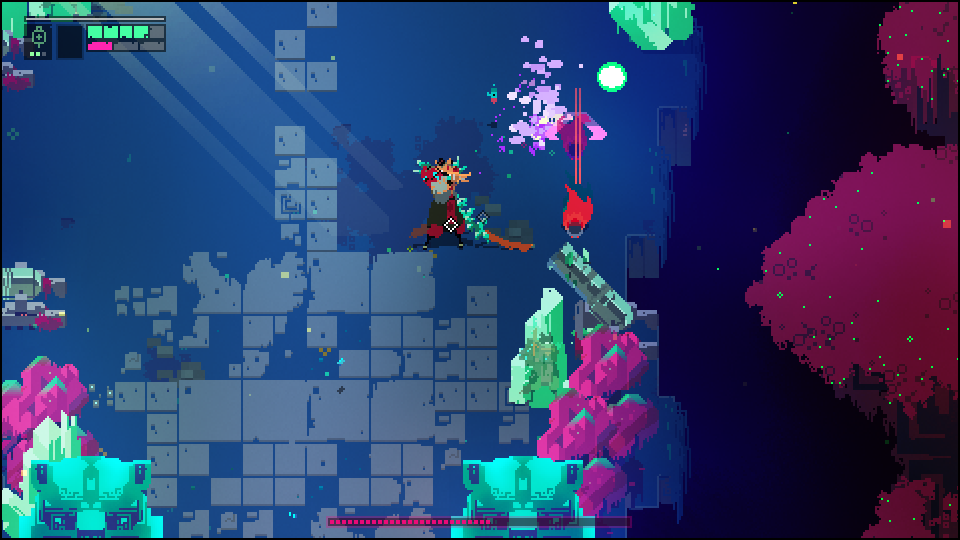hanged_man: (404, 156, 501, 257)
hanged_shot: (596, 60, 630, 98)
player: (559, 182, 595, 242)
